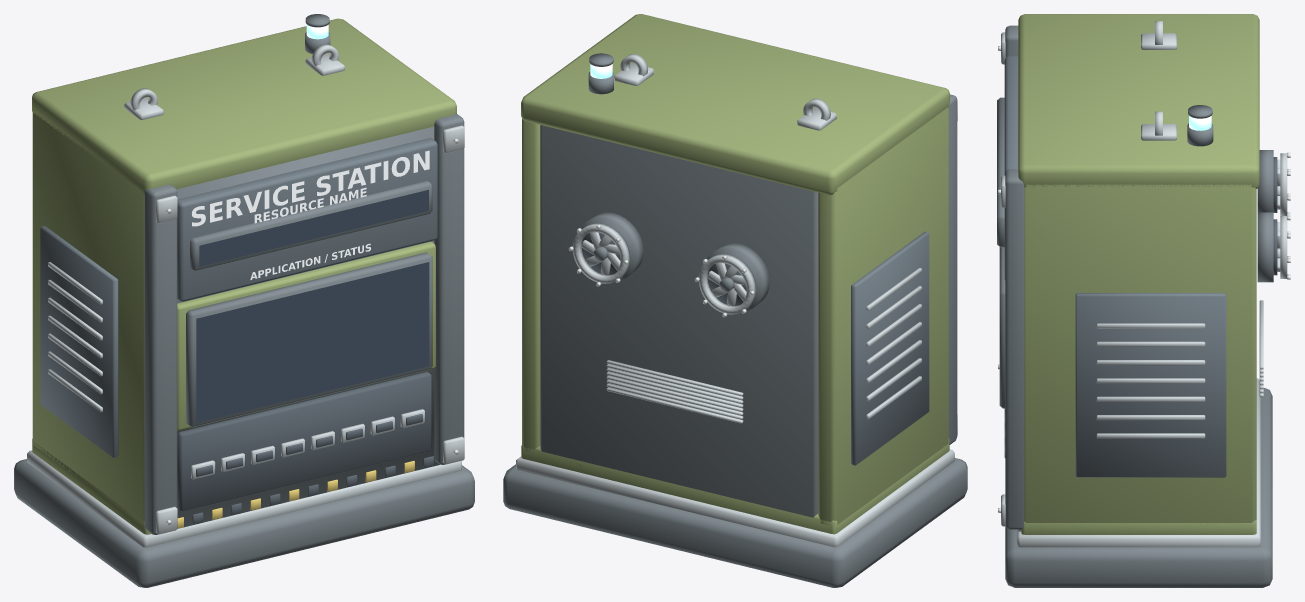
File: service_station_enhanced.glb
3 renders of one model, left to right at view 1: azimuth 30°, elevation 25°; view 2: azimuth 150°, elevation 25°; view 3: azimuth 270°, elevation 25°, orthographic. The views are drawn at different scales.
Parts seen in each view (by area): view 1: Roof_olive, LiveViewSurface_glass, SideWall_olive, CornerPost_frame, Skid_frame, PatchPanel_black, FrontHeader_graphite, SideServicePanel_graphite, SealFront_frame, SkidDeck_steel, LiveViewSurfaceFrame_frame, ResourceNameSurface_glass (+14 smaller); view 2: BackWall_frame, Roof_olive, SideWall_olive, Skid_frame, SideServicePanel_graphite, SkidDeck_steel, KickPlate_olive, RearFan_steel, RearVent_steel, CornerPost_frame, RearFan_frame, SideLouver_steel (+3 smaller); view 3: SideWall_olive, Roof_olive, SideServicePanel_graphite, Skid_frame, CornerPost_frame, SideLouver_steel, SkidDeck_steel, KickPlate_olive, RearFan_frame, FrontHeader_graphite, RearFan_steel, LiveViewSurfaceFrame_frame (+7 smaller).
Boxes of the visible parts, left/top/right/bottom form: Roof_olive: left=32, top=18, right=456, bottom=194; LiveViewSurface_glass: left=196, top=262, right=429, bottom=422; SideWall_olive: left=32, top=112, right=144, bottom=521; CornerPost_frame: left=144, top=114, right=464, bottom=534; Skid_frame: left=14, top=459, right=474, bottom=587; PatchPanel_black: left=177, top=372, right=431, bottom=511; FrontHeader_graphite: left=177, top=138, right=437, bottom=301; SideServicePanel_graphite: left=40, top=226, right=118, bottom=457; SealFront_frame: left=176, top=126, right=439, bottom=527; SkidDeck_steel: left=27, top=450, right=461, bottom=547; LiveViewSurfaceFrame_frame: left=186, top=252, right=432, bottom=427; ResourceNameSurface_glass: left=199, top=189, right=428, bottom=266; BackWall_frame: left=540, top=125, right=818, bottom=517; Roof_olive: left=521, top=14, right=949, bottom=195; SideWall_olive: left=522, top=107, right=948, bottom=525; Skid_frame: left=503, top=458, right=967, bottom=587; SideServicePanel_graphite: left=851, top=231, right=929, bottom=465; SkidDeck_steel: left=516, top=449, right=954, bottom=547; KickPlate_olive: left=521, top=438, right=949, bottom=534; RearFan_steel: left=572, top=223, right=755, bottom=314; RearVent_steel: left=606, top=360, right=743, bottom=423; CornerPost_frame: left=948, top=94, right=957, bottom=444; RearFan_frame: left=581, top=212, right=769, bottom=312; SideLouver_steel: left=866, top=268, right=921, bottom=419; SideWall_olive: left=1024, top=184, right=1256, bottom=525; Roof_olive: left=1018, top=14, right=1259, bottom=188; SideServicePanel_graphite: left=1075, top=293, right=1226, bottom=477; Skid_frame: left=1005, top=388, right=1272, bottom=587; CornerPost_frame: left=1005, top=25, right=1024, bottom=529; SideLouver_steel: left=1096, top=323, right=1205, bottom=438; SkidDeck_steel: left=1017, top=378, right=1260, bottom=547; KickPlate_olive: left=1021, top=520, right=1256, bottom=534; RearFan_frame: left=1257, top=150, right=1273, bottom=282; FrontHeader_graphite: left=1004, top=56, right=1018, bottom=280; RearFan_steel: left=1277, top=153, right=1287, bottom=278; LiveViewSurfaceFrame_frame: left=999, top=247, right=1005, bottom=408.
Bounding box in the file's own units: 2 × 2.48 × 1.47.
